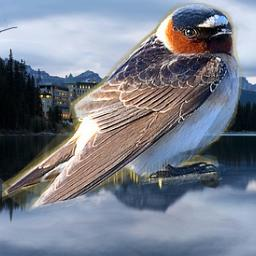Swallow: (2, 3, 242, 216)
